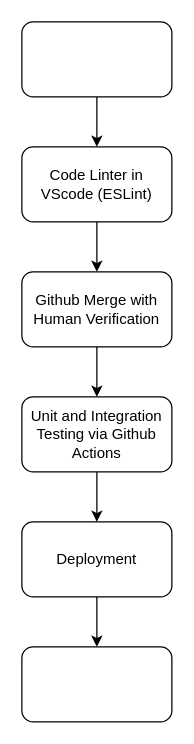
Image size: 194x744. Some labels were removed from this diagram. The centre of each missing label's shape, as x and y in pixels:
"Developer writes code" goes at pixel 96 59.
"Documentation (JSDoc)" goes at pixel 96 684.
